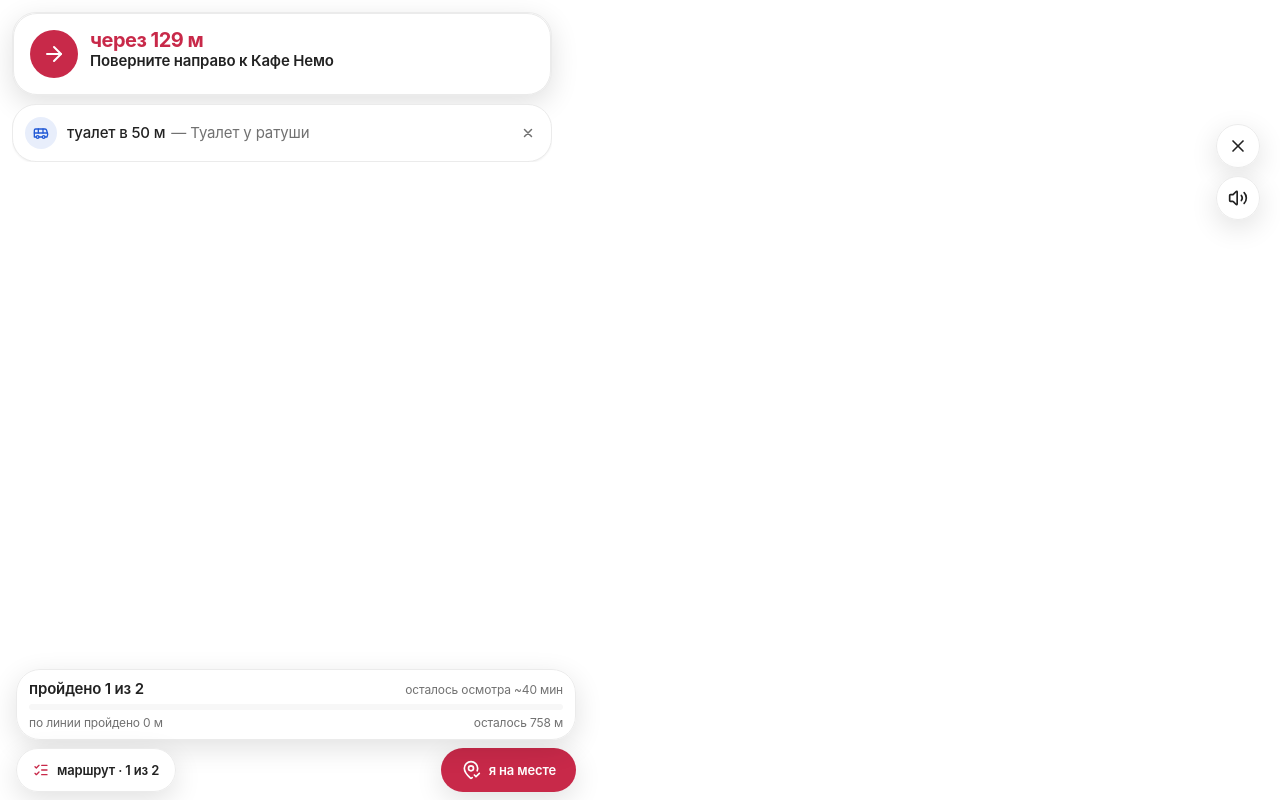
GuidePanel · NearbyHint › не спамит — тот же POI не показывается повторно
Expected: the element with test id "guide-nearby-hint" is shown, [12,104,552,162]
What coordinates should you click on to do the following:
click the button with test id "guide-nearby-hint-dismiss"
I would click on:
 (528, 133)
Its box is [517,122,539,144].
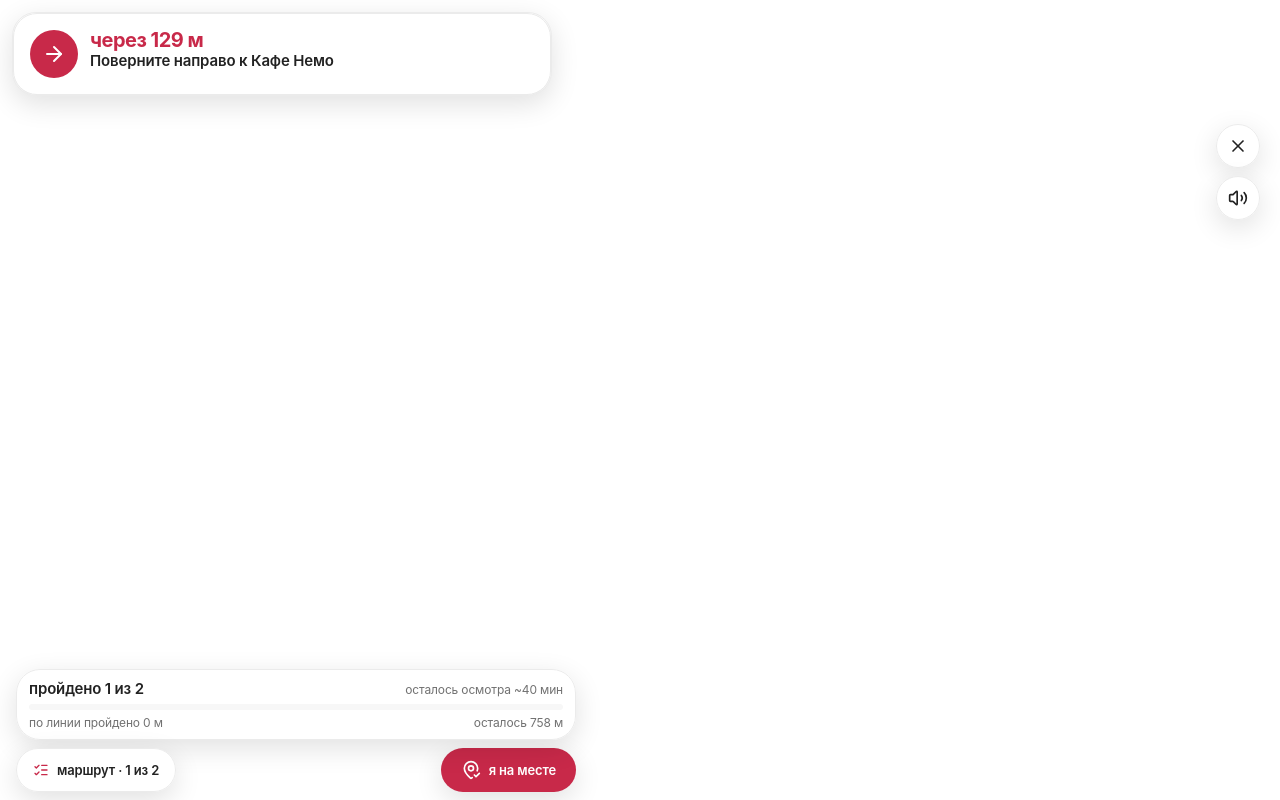
Expected: the element with test id "guide-nearby-hint" is gone
